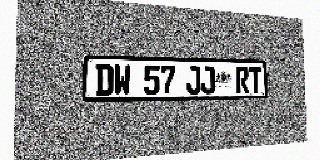5: (144, 65, 160, 95)
7: (160, 65, 176, 95)
D: (95, 64, 113, 96)
J: (186, 66, 201, 94), (201, 66, 215, 94)
R: (236, 67, 249, 93)
T: (249, 67, 262, 93)
W: (114, 64, 131, 95)
